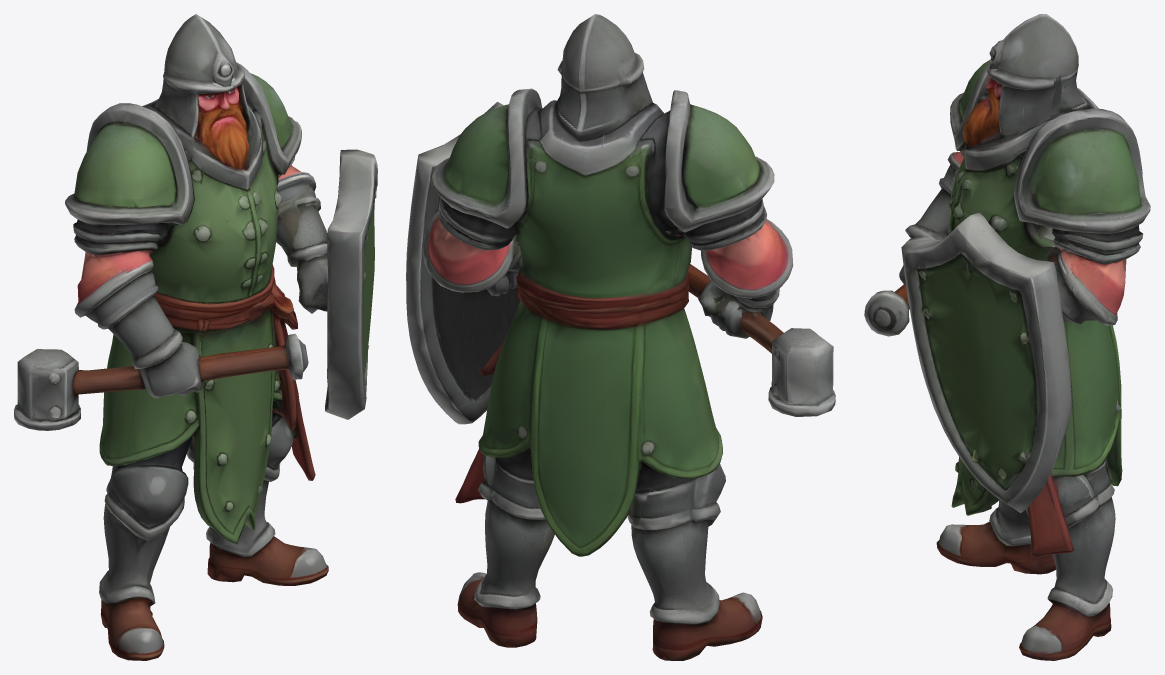
Rendered from heavy.glb.
3 views of the same model, side by side, from view 1: azimuth 30°, elevation 25°; view 2: azimuth 150°, elevation 25°; view 3: azimuth 270°, elevation 25° (orthographic). The views are drawn at different scales.
Visible parts, largest first — view 1: Mesh_0; view 2: Mesh_0; view 3: Mesh_0.
Boxes of the visible parts, <box> form: Mesh_0: <box>14,14,377,660</box>; Mesh_0: <box>406,14,835,660</box>; Mesh_0: <box>864,14,1150,660</box>.
Size of the model in its own units: 1.29 by 1.91 by 0.8428.
Materials: 1 (1 with a texture image).
